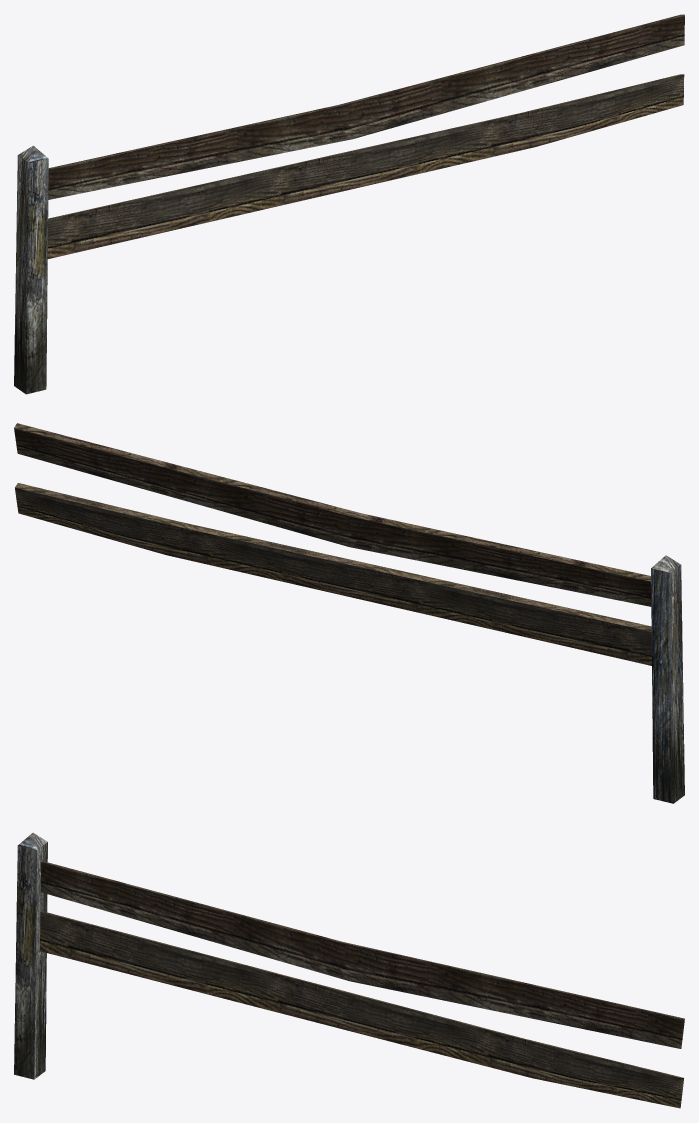
Rendered from loc2_29.glb.
3 renders of one model, top to bottom at view 1: azimuth 30°, elevation 25°; view 2: azimuth 150°, elevation 25°; view 3: azimuth 330°, elevation 25°, orthographic.
Visible parts, largest first — view 1: loc2_29; view 2: loc2_29; view 3: loc2_29.
Boxes of the visible parts, <box> form: loc2_29: <box>14,14,684,394</box>; loc2_29: <box>14,423,684,803</box>; loc2_29: <box>14,832,684,1108</box>.
Size of the model in its own units: 10.78 by 3.74 by 0.3307.
2 materials, 2 textured.
